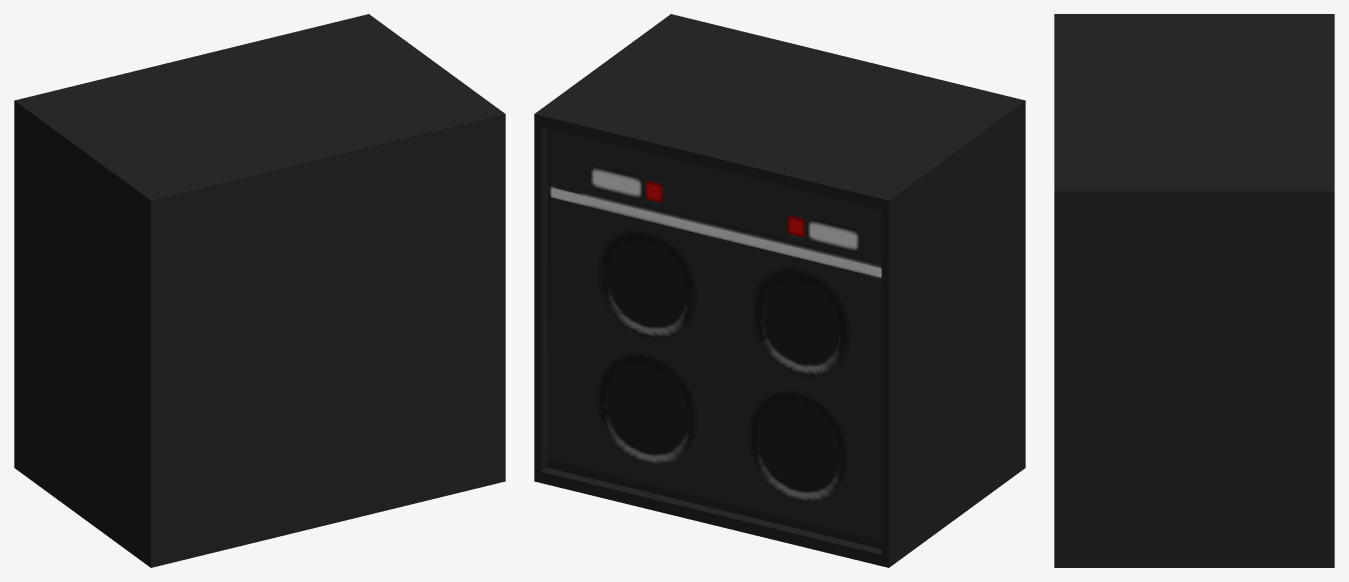
Rendered from Small_Speaker_1.fbx.
3 views of the same model, side by side, from view 1: azimuth 30°, elevation 25°; view 2: azimuth 150°, elevation 25°; view 3: azimuth 270°, elevation 25° (orthographic). The views are drawn at different scales.
Visible parts, largest first — view 1: Small_Speaker_1; view 2: Small_Speaker_1; view 3: Small_Speaker_1.
Boxes of the visible parts, left/top/right/bottom form: Small_Speaker_1: left=14, top=14, right=505, bottom=567; Small_Speaker_1: left=534, top=14, right=1025, bottom=567; Small_Speaker_1: left=1054, top=14, right=1334, bottom=567.
Bounding box in the file's own units: 1.96 × 1.94 × 1.31.
